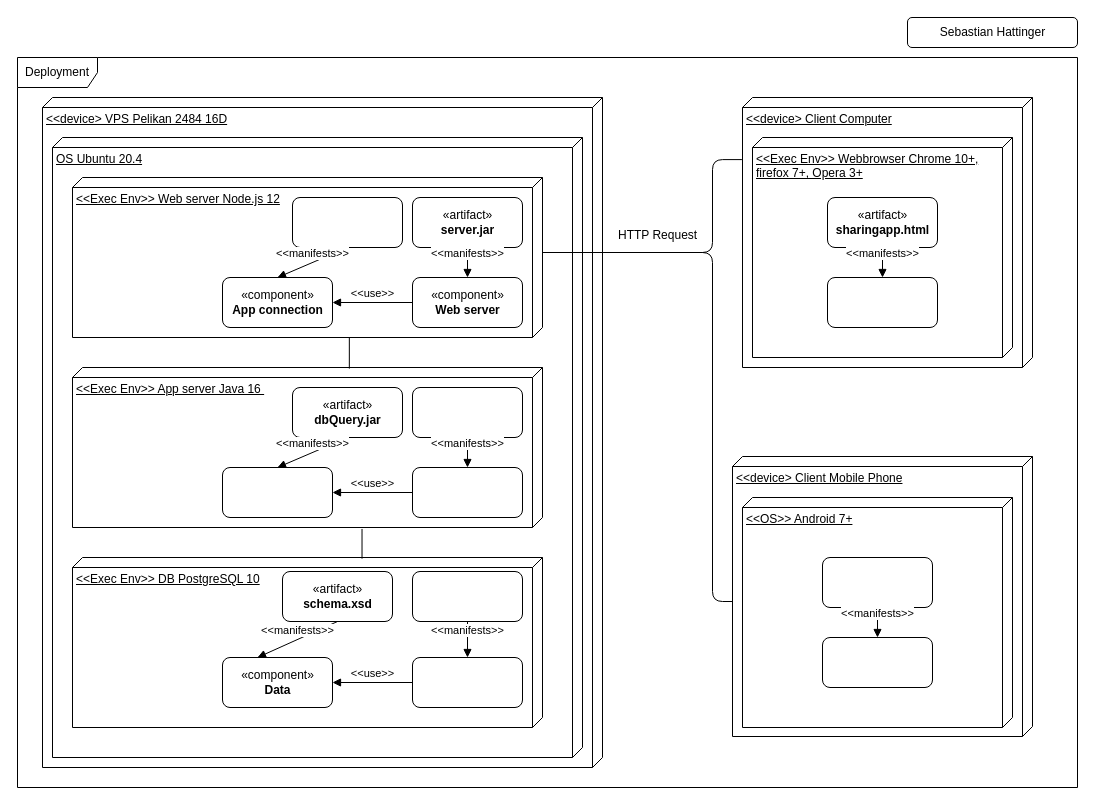
Image size: 1095x805. Some labels were removed from this diagram. Each missing label, with the centre of its shape:
"«artifact» app-server.conf" belongs at pixel 347 222.
"«artifact» app.jar" belongs at pixel 467 412.
"«artifact» db.jar" belongs at pixel 467 596.
"«artifact» sharingapp.apk" belongs at pixel 877 582.
"«component» App server" belongs at pixel 467 492.
"«component» Database" belongs at pixel 467 682.
"«component» DB connection" belongs at pixel 277 492.
"«component» Mobile app" belongs at pixel 877 662.
"«component» Web app" belongs at pixel 882 302.
